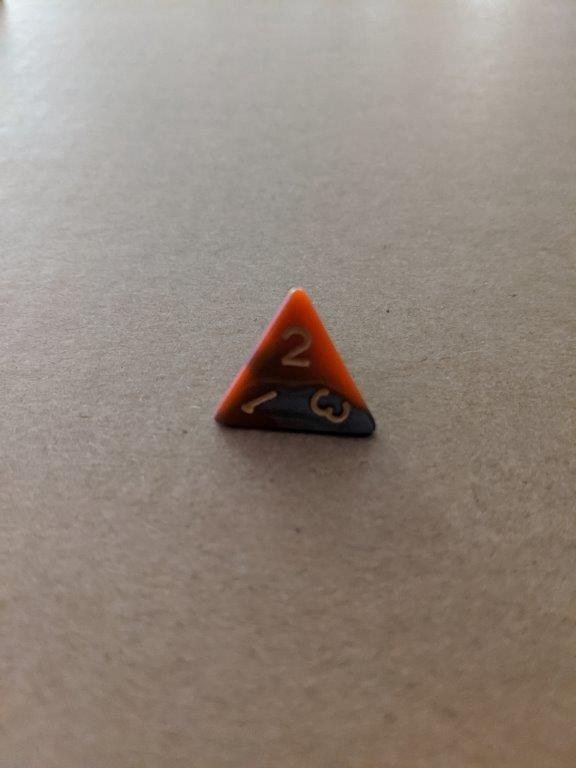d4-2: (200, 284, 380, 447)
